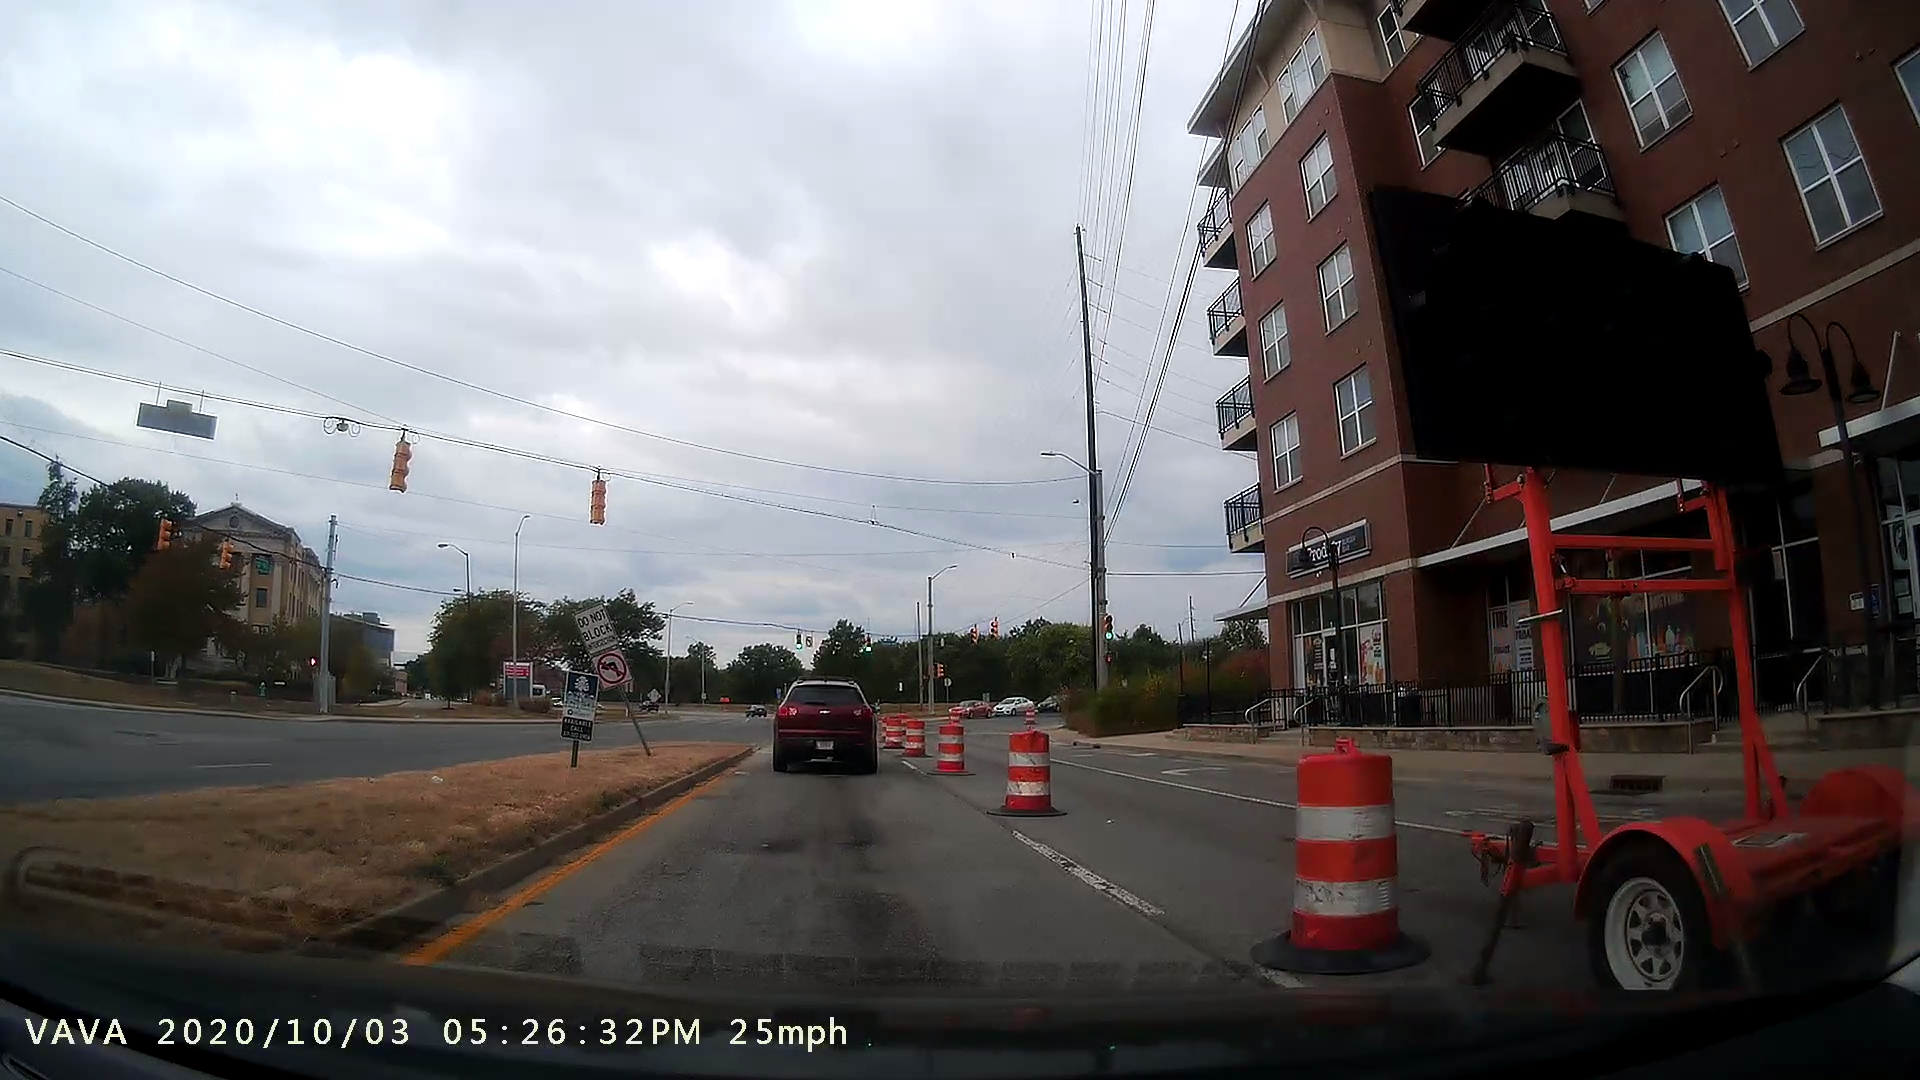const_barrel: (1215, 719, 1440, 978), (998, 715, 1067, 825), (924, 713, 980, 782)
